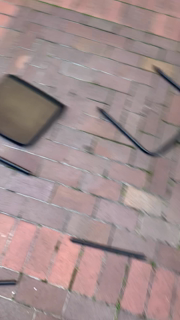i pipe: (70, 234, 149, 265)
